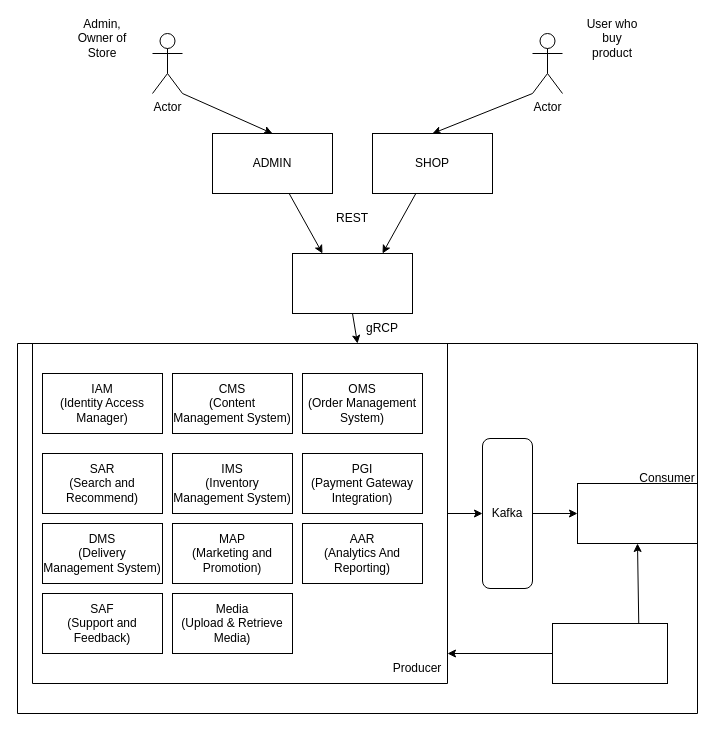
Image size: 715x731. Some labels were removed from this diagram. Here are the shapes that lost their labels. From the top down, the centre of each, then its label:
point (352, 283): API
point (637, 513): Notify
point (610, 653): ELK
